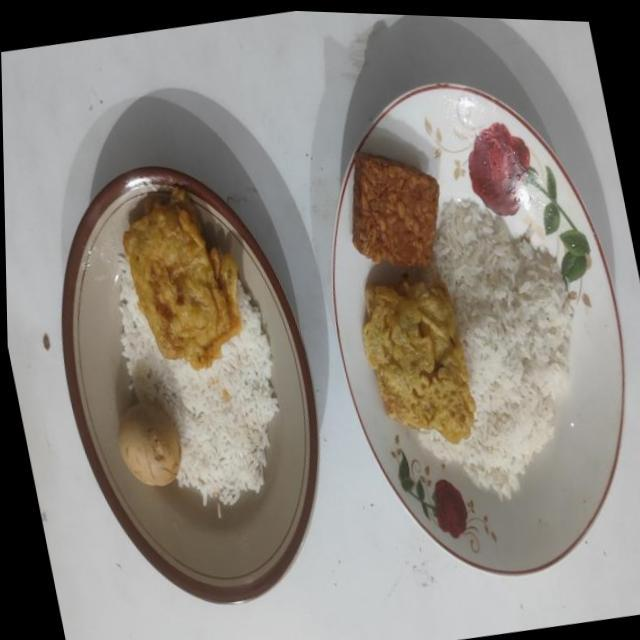nasi_putih: (418, 198, 574, 498), (118, 257, 278, 504)
tempe_goreng: (352, 152, 439, 266)
